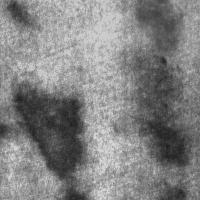patches: (25, 0, 125, 92), (13, 88, 83, 194), (116, 0, 200, 68), (139, 110, 187, 166), (131, 1, 181, 53), (8, 1, 27, 23)
